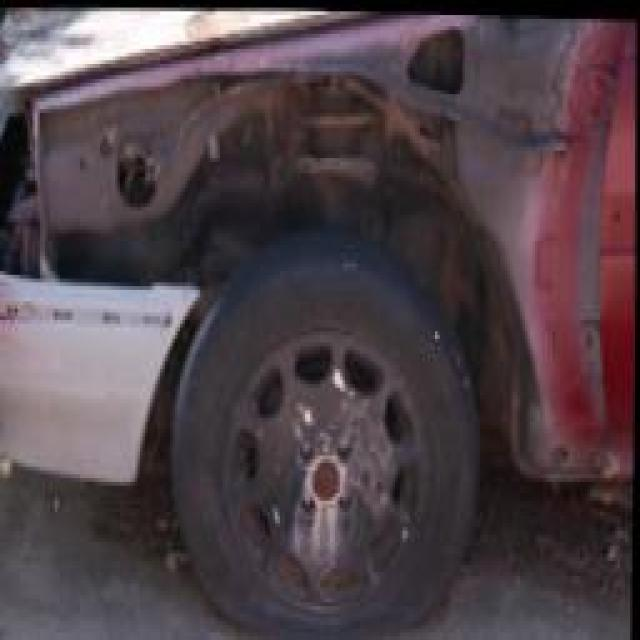Fender: (28, 8, 581, 308)
